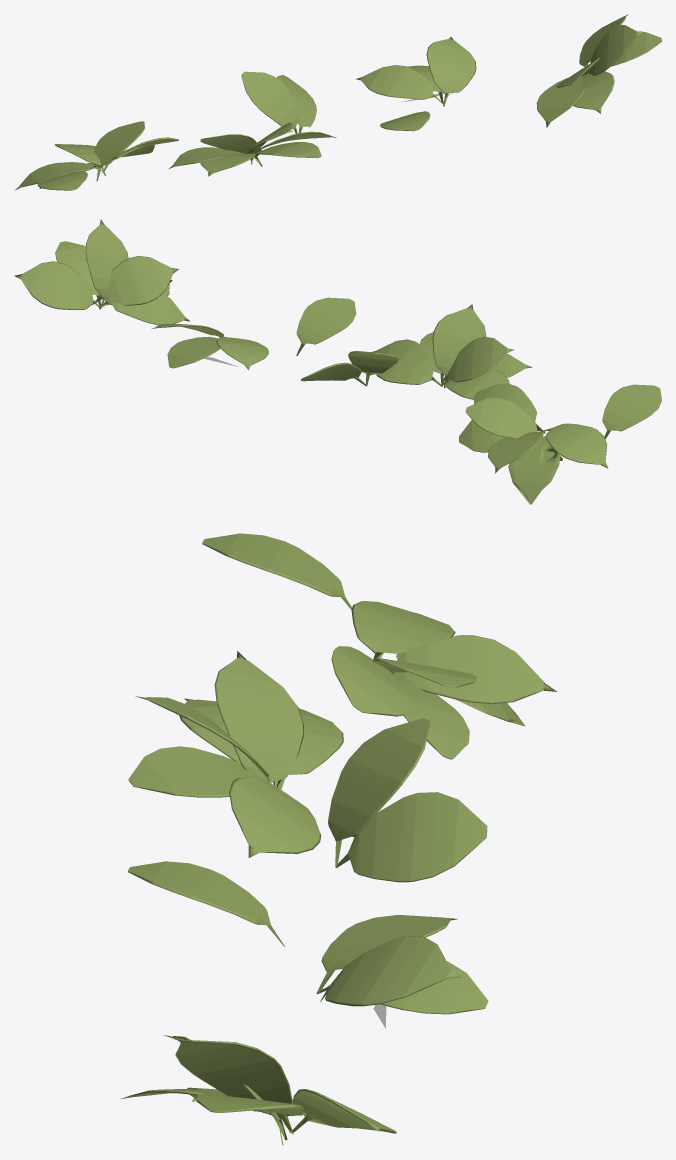
The model's file is reduced full cluster axis changed.fbx.
3 views of the same model, one above another, from view 1: azimuth 30°, elevation 25°; view 2: azimuth 150°, elevation 25°; view 3: azimuth 270°, elevation 25° (orthographic). The views are drawn at different scales.
Visible parts, largest first — view 1: pCube16, polySurface6, pCube14, pCube15, polySurface14, polySurface16, polySurface17, polySurface12; view 2: pCube16, pCube15, pCube14, polySurface6, polySurface12, polySurface17, polySurface14, polySurface16; view 3: pCube14, pCube15, polySurface6, pCube16, polySurface16, polySurface14, polySurface12, polySurface17.
Boxes of the visible parts, x1,y1,x2,y2 form: pCube16: (536, 14, 661, 127); polySurface6: (355, 37, 476, 106); pCube14: (169, 122, 337, 176); pCube15: (14, 121, 179, 190); polySurface14: (241, 71, 298, 133); polySurface16: (277, 75, 316, 139); polySurface17: (37, 171, 87, 190); polySurface12: (380, 111, 430, 131); pCube16: (14, 219, 189, 324); pCube15: (459, 383, 608, 504); pCube14: (371, 304, 532, 399); polySurface6: (152, 323, 268, 369); polySurface12: (296, 297, 356, 355); polySurface17: (602, 384, 661, 439); polySurface14: (348, 351, 398, 386); polySurface16: (301, 362, 366, 385); pCube14: (128, 651, 343, 857); pCube15: (331, 601, 556, 759); polySurface6: (316, 915, 488, 1014); pCube16: (120, 1035, 396, 1145); polySurface16: (336, 792, 487, 882); polySurface14: (328, 718, 430, 867); polySurface12: (128, 861, 284, 946); polySurface17: (202, 533, 351, 609).
Bounding box in the file's own units: 37.53 × 5.56 × 11.6.
